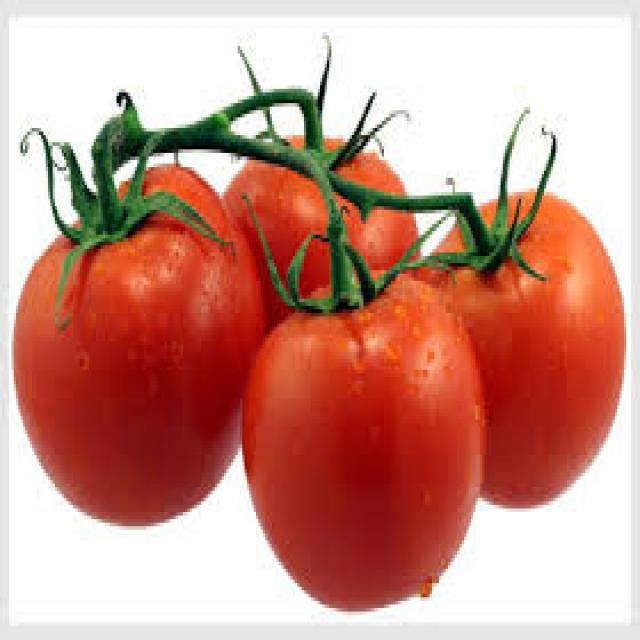organic waste: (9, 160, 265, 526), (238, 263, 484, 612), (430, 188, 624, 508), (212, 128, 420, 331)
